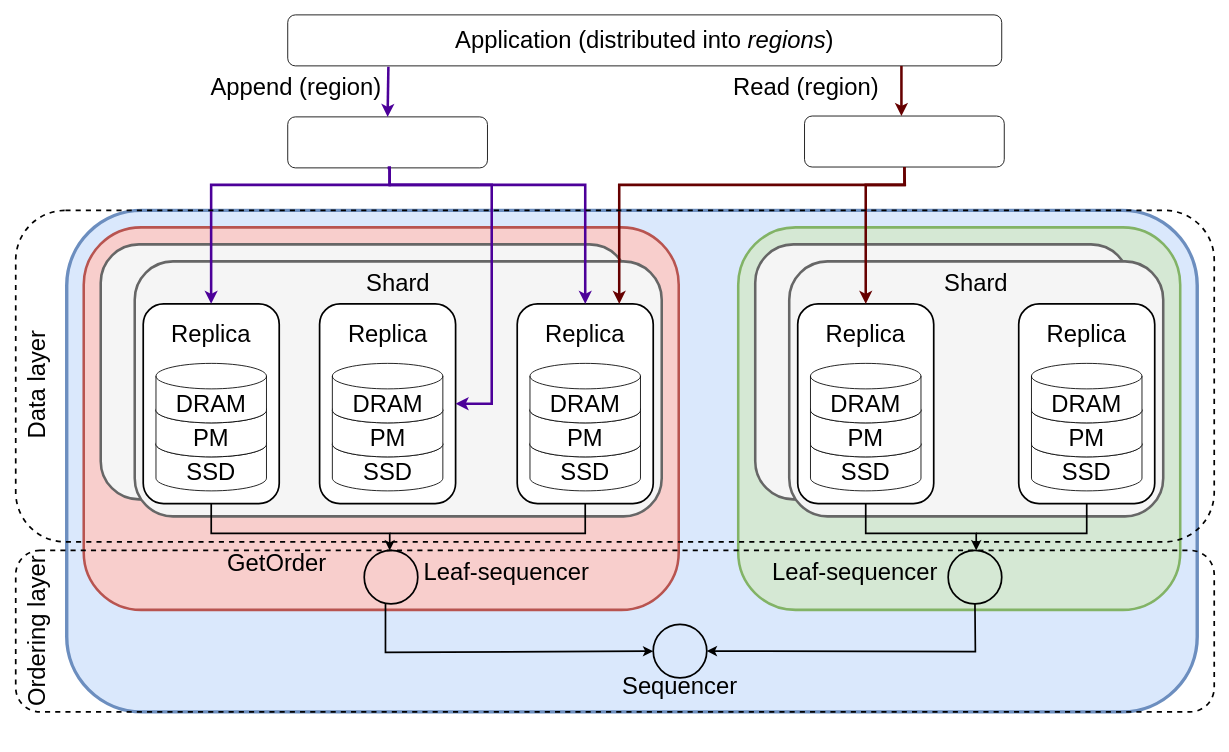
This 1229x752 diagram has some shape labels left out. Here are the shapes that lost their labels. From the top down, the centre of each, then its label:
the point at 387,142: Client #1
the point at 904,141: Client #2
